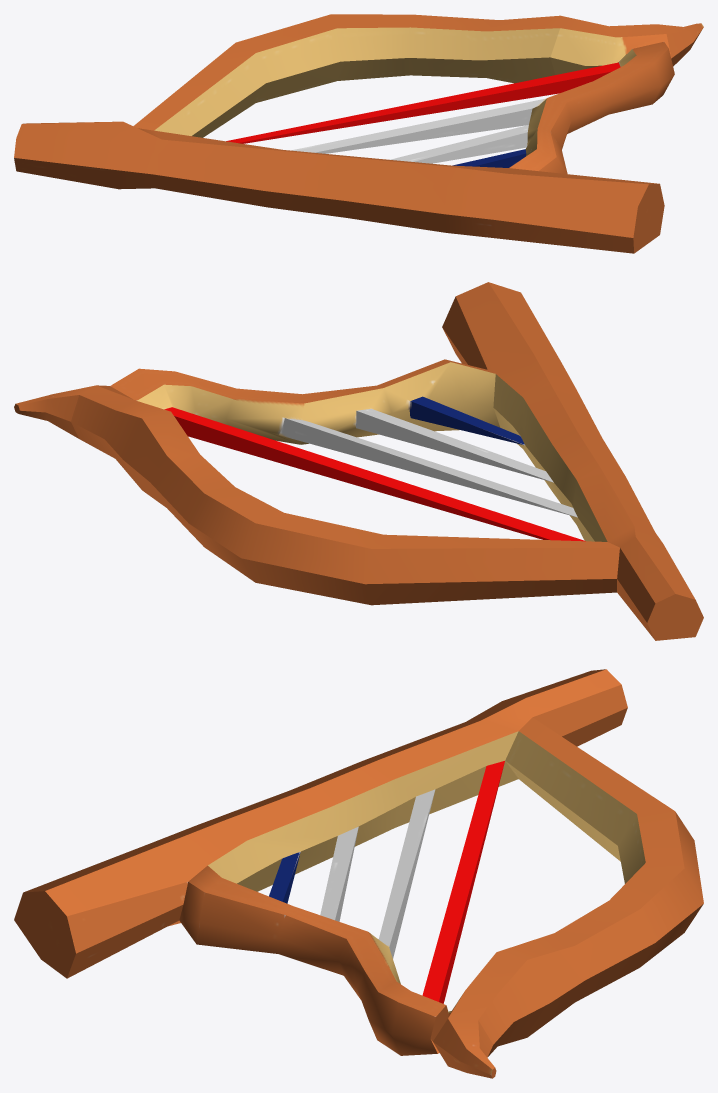
The model's file is arpa-3.obj.
3 views of the same model, one above another, from view 1: azimuth 30°, elevation 25°; view 2: azimuth 150°, elevation 25°; view 3: azimuth 270°, elevation 25° (orthographic). The views are drawn at different scales.
Parts seen in each view (by area): view 1: a3_Arpa_1:pCube6; view 2: a3_Arpa_1:pCube6; view 3: a3_Arpa_1:pCube6.
Part boxes in pixels (left/top/right/bottom): a3_Arpa_1:pCube6: left=14, top=14, right=703, bottom=253; a3_Arpa_1:pCube6: left=14, top=282, right=703, bottom=640; a3_Arpa_1:pCube6: left=14, top=669, right=703, bottom=1078.
Bounding box in the file's own units: 9.67 × 0.9502 × 7.28.
Materials: 1 (1 with a texture image).
